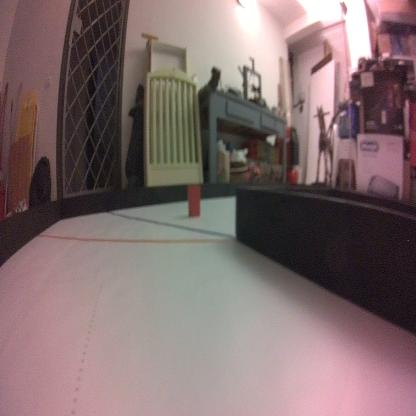red: (187, 184, 201, 218)
